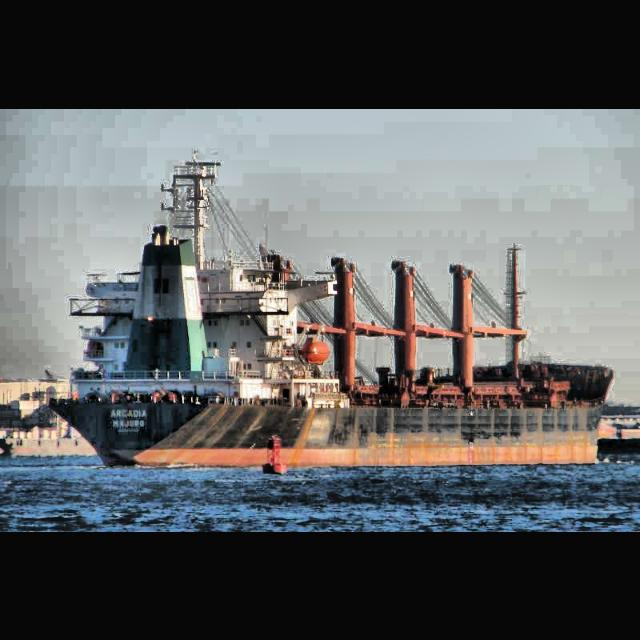bulk_carrier: (47, 148, 615, 472)
buoy: (260, 433, 288, 475)
